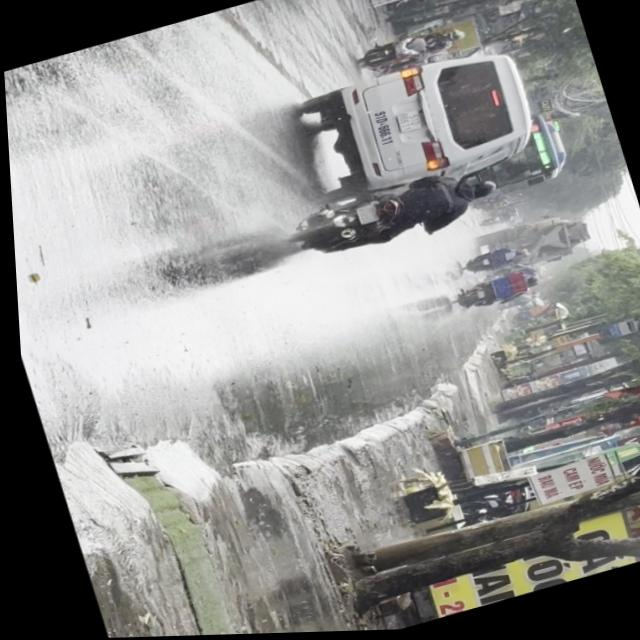helmet: (464, 177, 497, 201)
licenseplate: (278, 158, 507, 270)
nohelmet: (354, 203, 376, 224)
